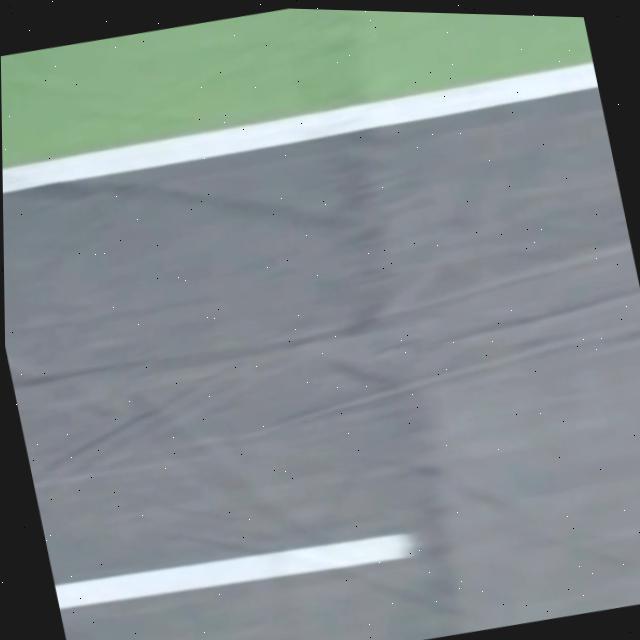center: (54, 534, 417, 610)
right: (3, 64, 598, 194)
